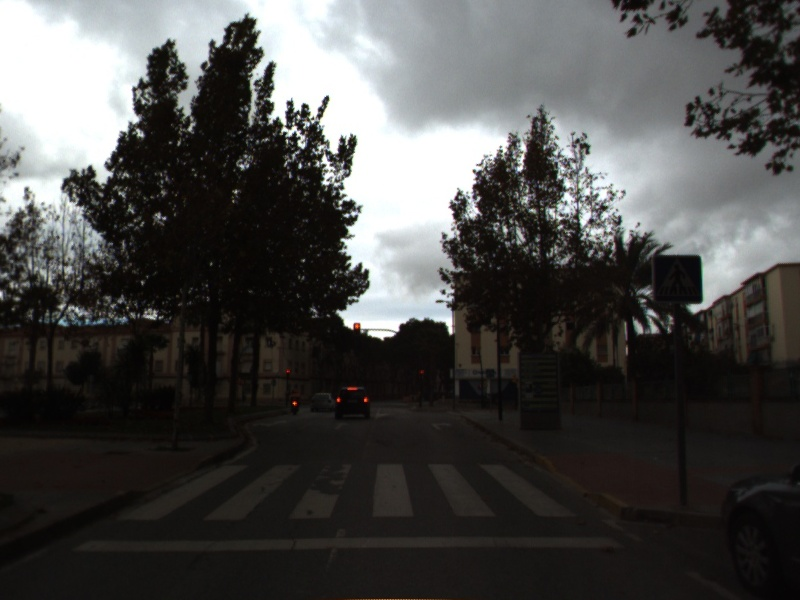RIGHT: (429, 420, 454, 432)
STRAIGHT: (331, 420, 350, 432)
STRAIGHT_LEFT: (250, 418, 289, 429)
